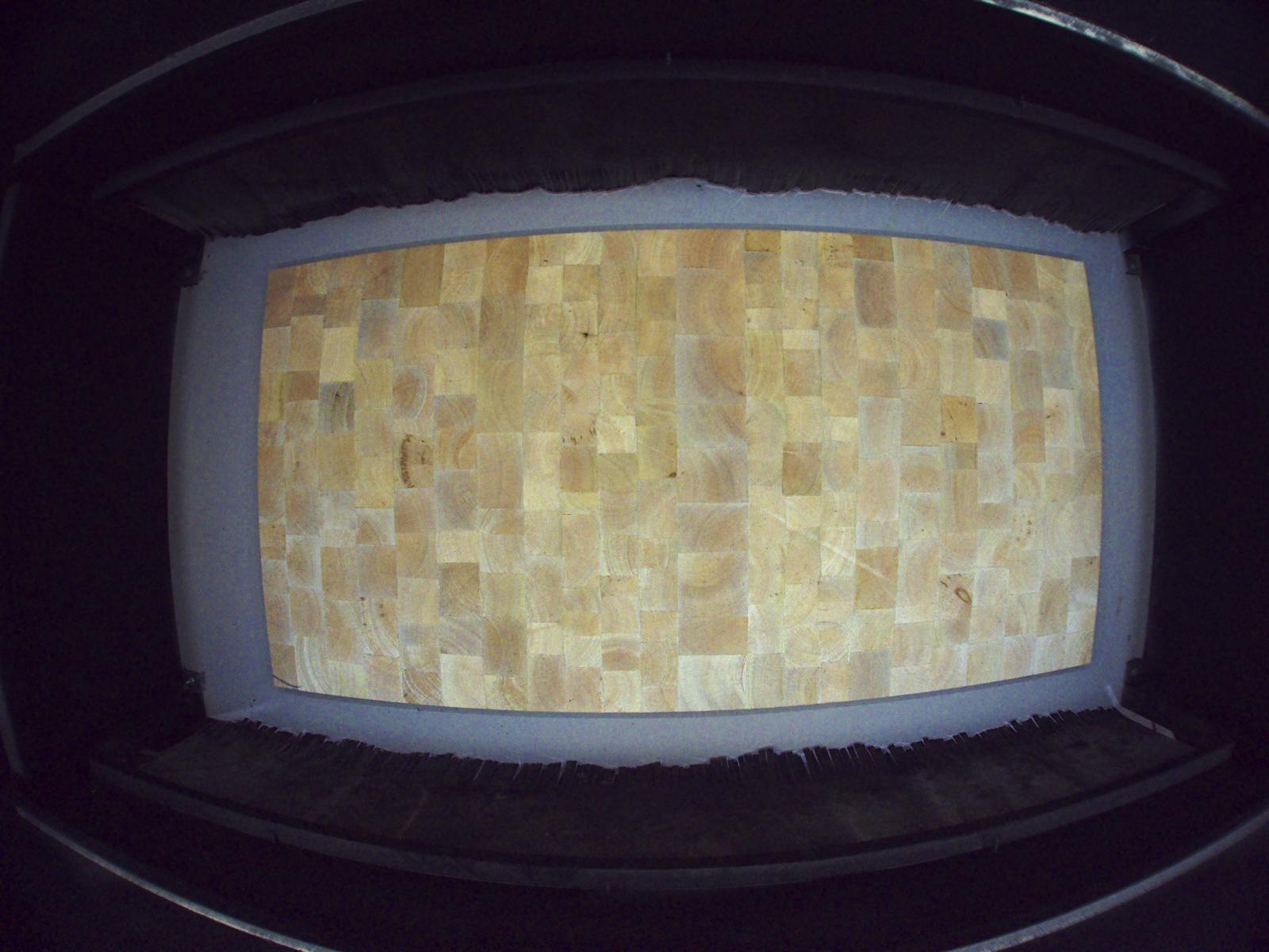sheck_ecuatoriano: (331, 382, 345, 435), (579, 320, 591, 352)
